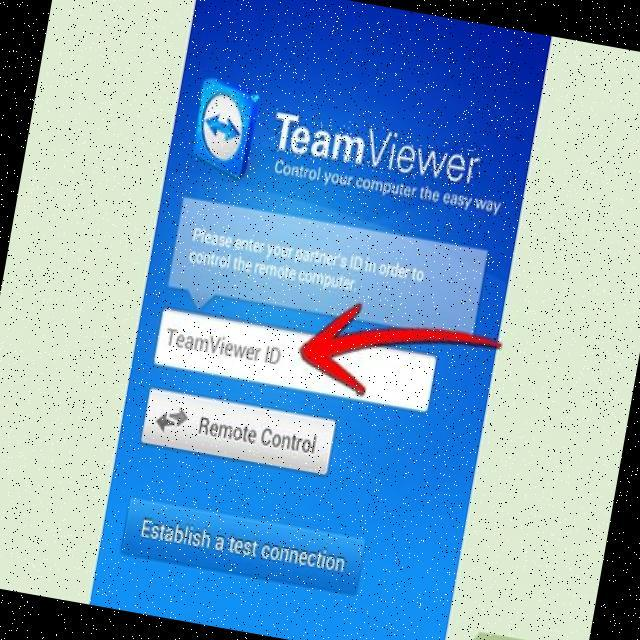TeamViewer: (268, 108, 485, 189), (187, 76, 264, 180)
